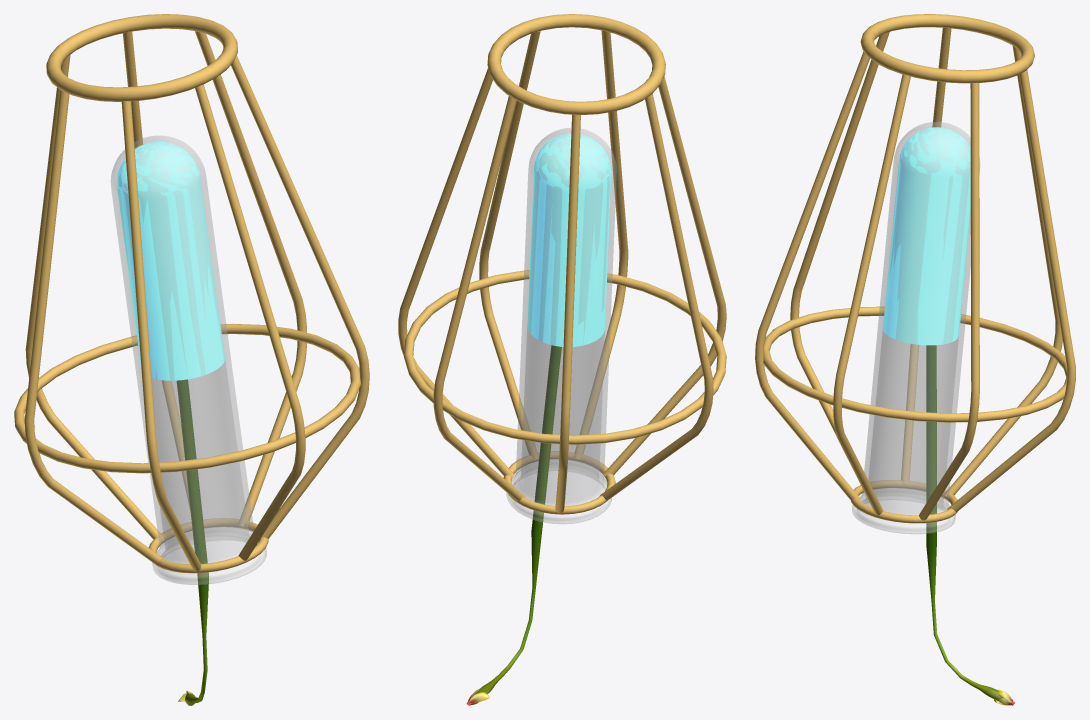
3 renders of one model, left to right at view 1: azimuth 30°, elevation 25°; view 2: azimuth 150°, elevation 25°; view 3: azimuth 270°, elevation 25°, orthographic. The views are drawn at different scales.
Visible parts, largest first — view 1: Stem; view 2: Stem; view 3: Stem.
Boxes of the visible parts, x1=… form: Stem: x1=14, y1=14, x2=369, y2=705; Stem: x1=398, y1=14, x2=726, y2=705; Stem: x1=755, y1=14, x2=1075, y2=705.
Size of the model in its own units: 5.93 by 12.82 by 5.85.
Materials: 5 (3 with a texture image).
